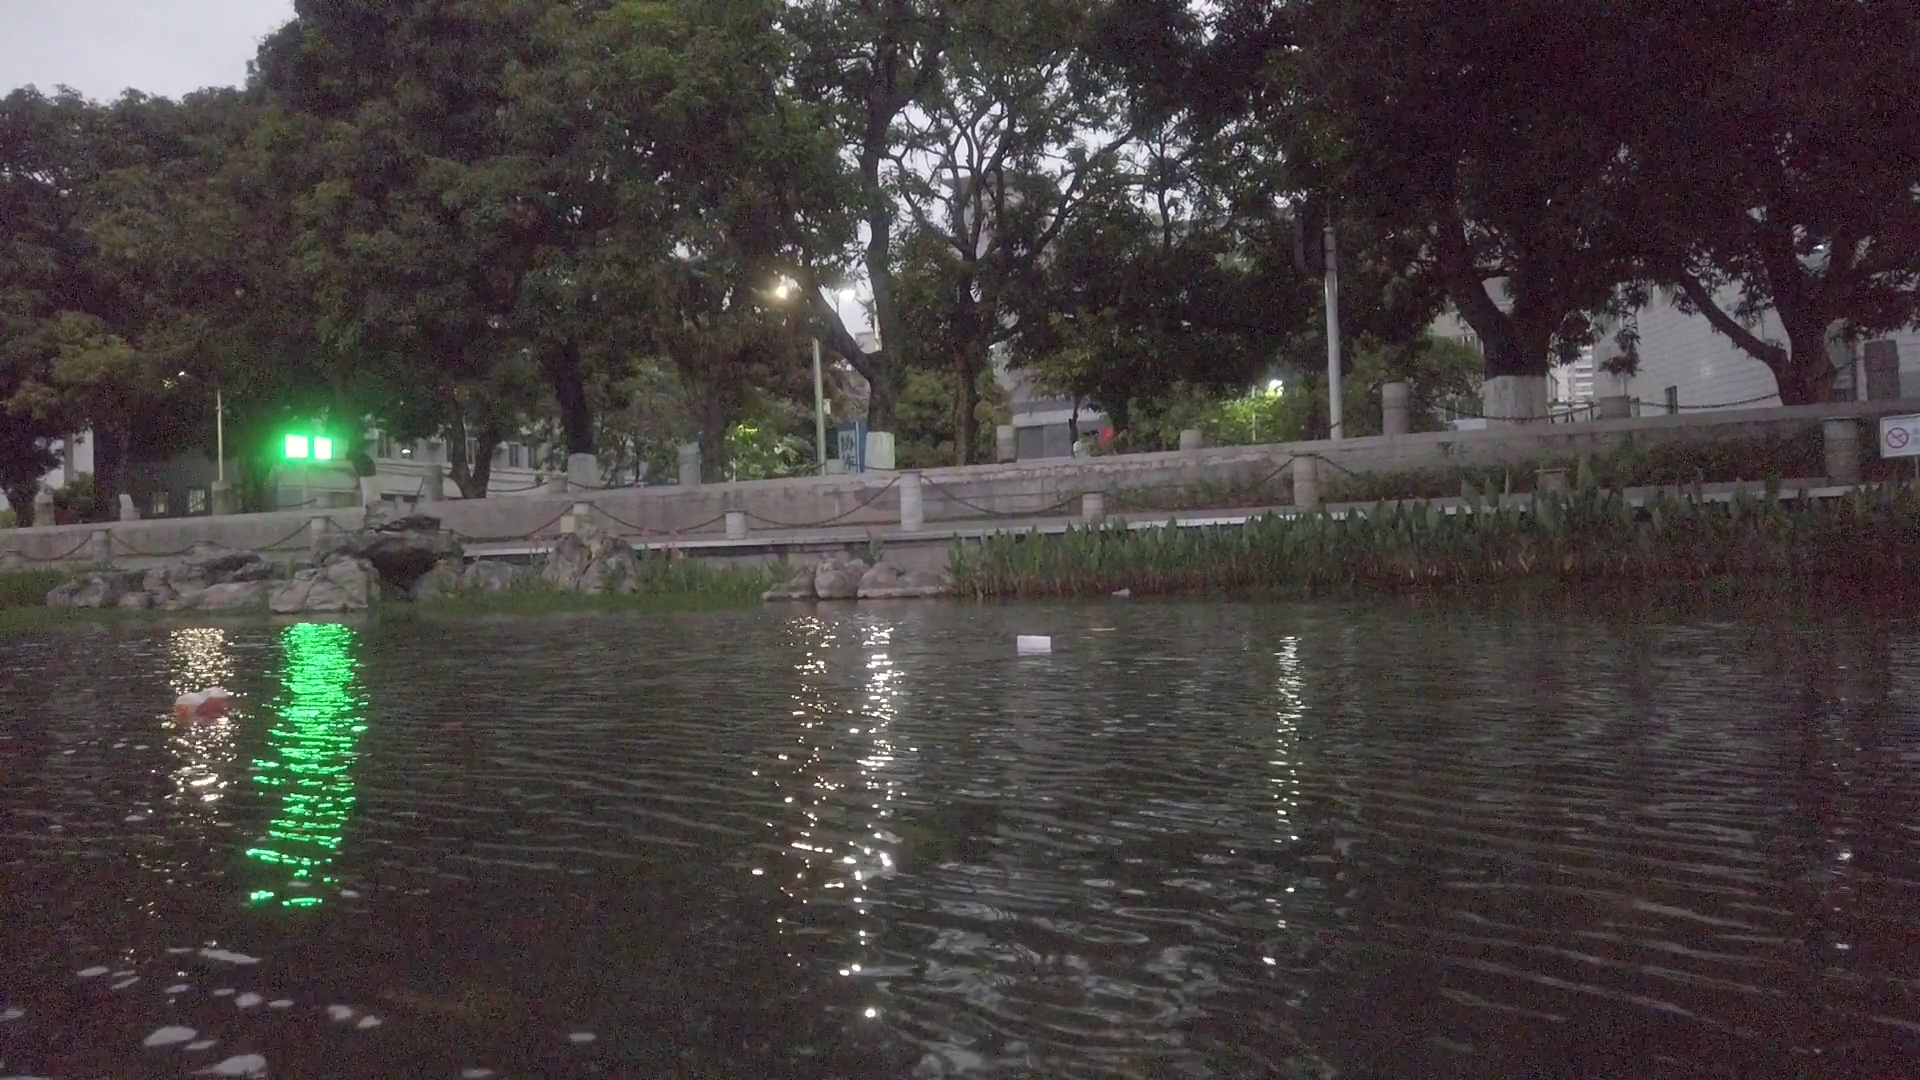bottle: (171, 686, 229, 719)
carton: (1015, 636, 1052, 651)
